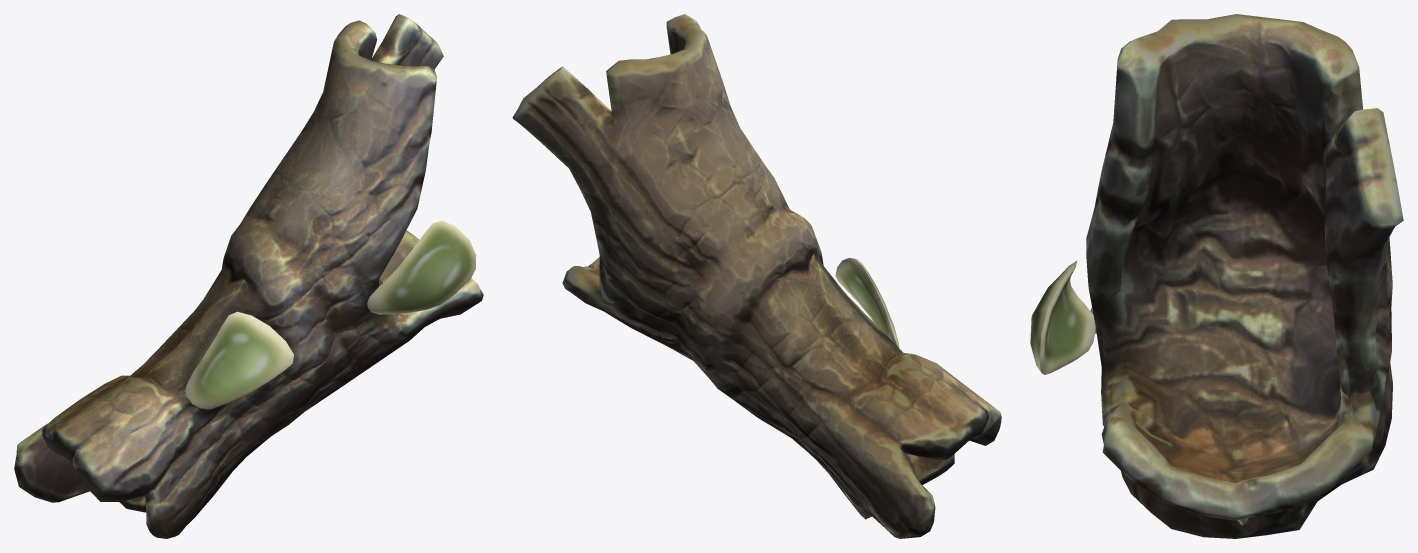
The model's file is Ore_wood_low.glb.
3 views of the same model, side by side, from view 1: azimuth 30°, elevation 25°; view 2: azimuth 150°, elevation 25°; view 3: azimuth 270°, elevation 25° (orthographic). The views are drawn at different scales.
Visible parts, largest first — view 1: Ore_wood_low; view 2: Ore_wood_low; view 3: Ore_wood_low.
Part boxes in pixels (x1=…): Ore_wood_low: x1=14, y1=14, x2=483, y2=538; Ore_wood_low: x1=512, y1=14, x2=1001, y2=538; Ore_wood_low: x1=1030, y1=14, x2=1403, y2=538.
Bounding box in the file's own units: 0.2891 × 0.2711 × 0.1365.
Materials: 1 (1 with a texture image).
